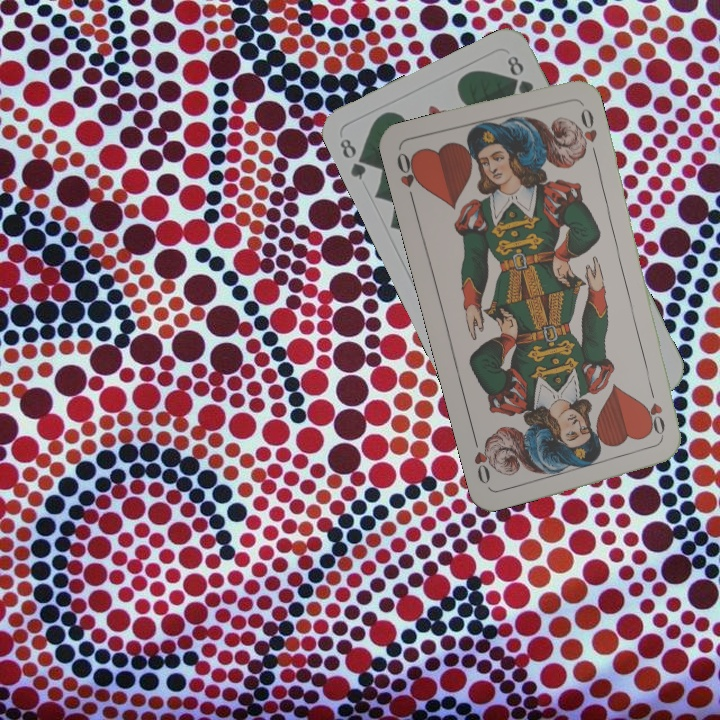G8: (335, 134, 373, 183)
HO: (392, 148, 424, 206), (645, 382, 668, 441)
